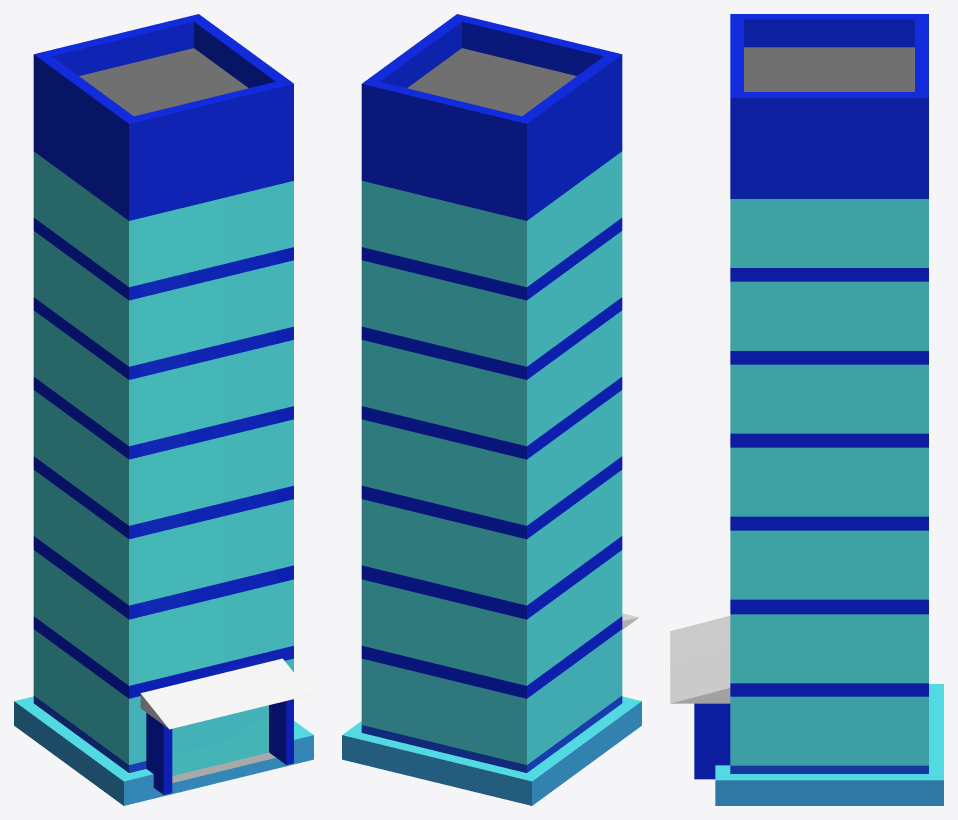
File: building_1.glb
3 renders of one model, left to right at view 1: azimuth 30°, elevation 25°; view 2: azimuth 150°, elevation 25°; view 3: azimuth 270°, elevation 25°, orthographic. The views are drawn at different scales.
Visible parts, largest first — view 1: 平面; view 2: 平面; view 3: 平面.
Boxes of the visible parts, x1,y1,x2,y2 form: 平面: [14, 14, 313, 805]; 平面: [342, 14, 641, 805]; 平面: [670, 14, 943, 805].
Bounding box in the file's own units: 1.5 × 5.08 × 1.8.
Materials: 1 (1 with a texture image).
